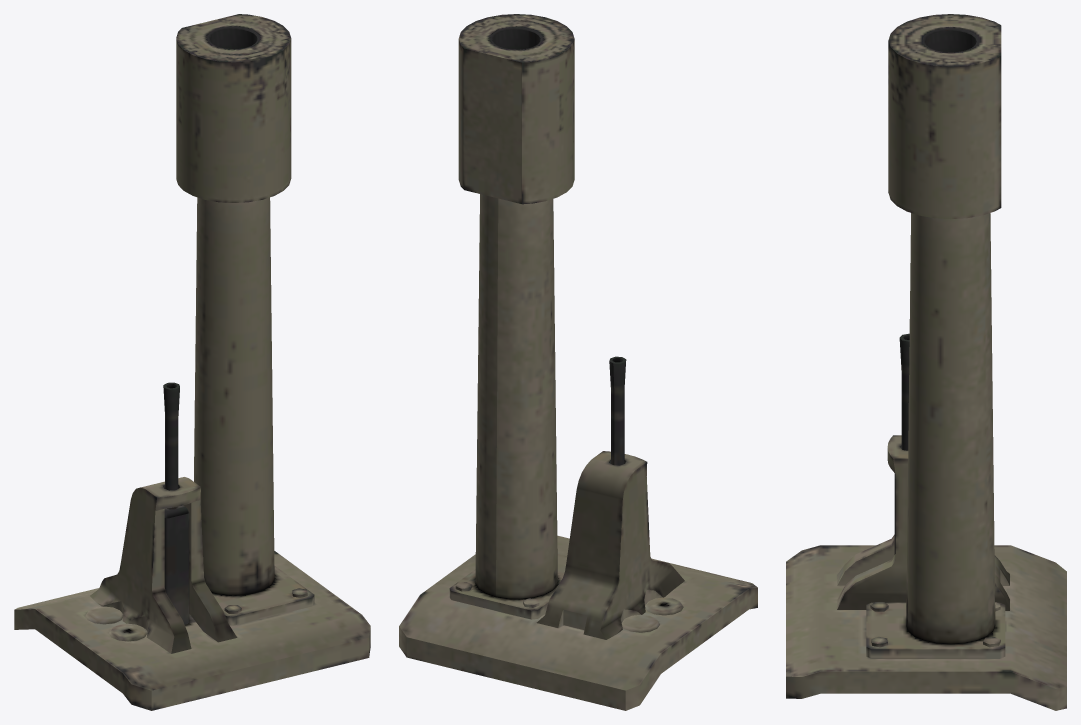
File: Gun_08.glb
3 renders of one model, left to right at view 1: azimuth 30°, elevation 25°; view 2: azimuth 150°, elevation 25°; view 3: azimuth 270°, elevation 25°, orthographic. The views are drawn at different scales.
Parts seen in each view (by area): view 1: set_0_group_0; view 2: set_0_group_0; view 3: set_0_group_0.
Part boxes in pixels (<box>): set_0_group_0: <box>14,14,370,710</box>; set_0_group_0: <box>399,14,757,710</box>; set_0_group_0: <box>786,14,1066,710</box>.
Bounding box in the file's own units: 0.56 × 1.32 × 0.5254.
Materials: 1 (1 with a texture image).
